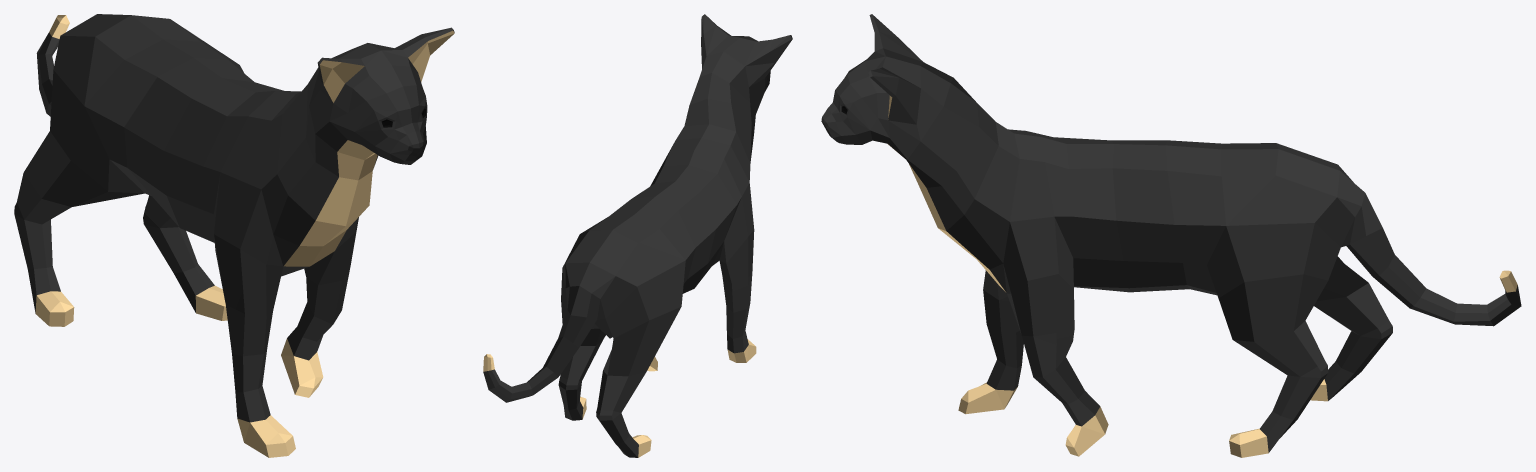
Rendered from Cat_1.FBX.
3 renders of one model, left to right at view 1: azimuth 30°, elevation 25°; view 2: azimuth 150°, elevation 25°; view 3: azimuth 270°, elevation 25°, orthographic. The views are drawn at different scales.
Visible parts, largest first — view 1: Cat_1; view 2: Cat_1; view 3: Cat_1.
Boxes of the visible parts, x1,y1,x2,y2 form: Cat_1: [14, 14, 454, 457]; Cat_1: [483, 14, 792, 457]; Cat_1: [821, 14, 1521, 457].
Bounding box in the file's own units: 0.2547 × 0.6135 × 0.9799.
Materials: 1 (1 with a texture image).
